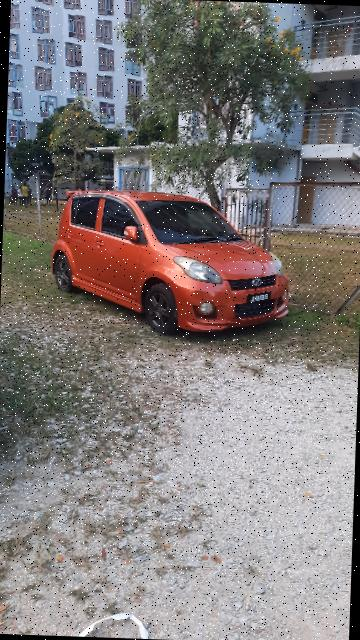License_Plate: (244, 292, 278, 307)
car: (48, 186, 297, 341)
